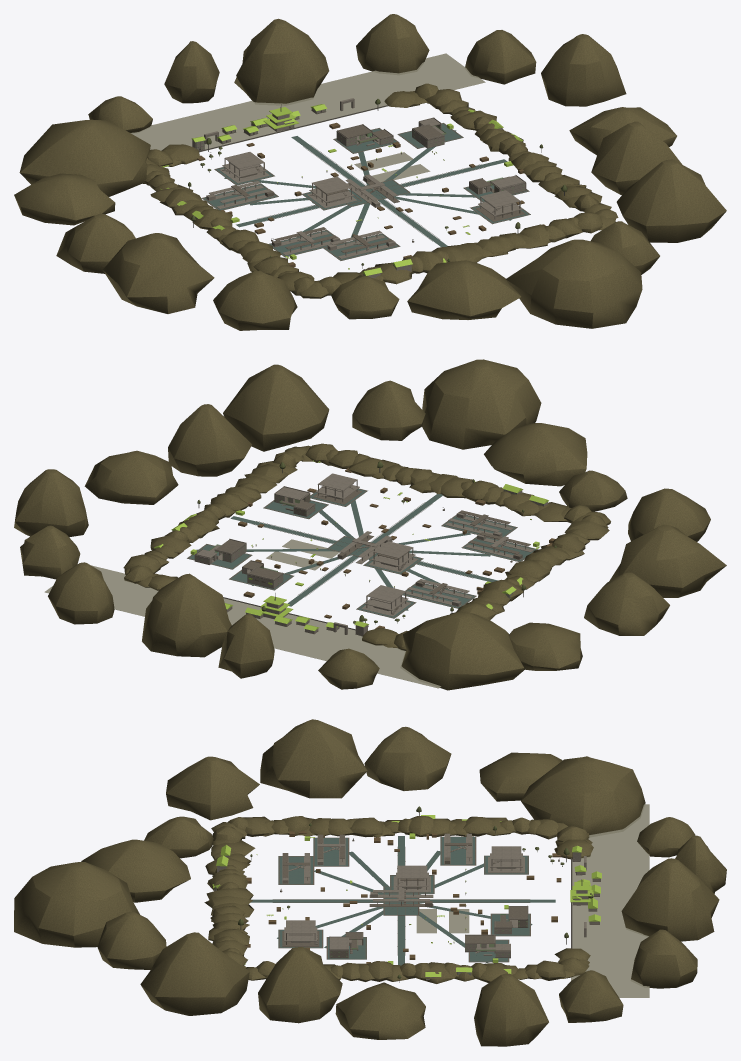
The model's file is tanada-lod1.glb.
The picture shows the model from 3 angles, top to bottom: view 1: azimuth 30°, elevation 25°; view 2: azimuth 150°, elevation 25°; view 3: azimuth 270°, elevation 25°; orthographic projection.
Parts seen in each view (by area): view 1: HB_tanada_LOD1_terrain, HB_tanada_LOD1_water, HB_tanada_LOD1_wall, HB_tanada_LOD1_road, HB_tanada_LOD1_wall_alt, HB_tanada_LOD1_accent, HB_tanada_LOD1_obstacle, HB_tanada_LOD1_trim; view 2: HB_tanada_LOD1_terrain, HB_tanada_LOD1_wall, HB_tanada_LOD1_water, HB_tanada_LOD1_road, HB_tanada_LOD1_wall_alt, HB_tanada_LOD1_accent, HB_tanada_LOD1_obstacle; view 3: HB_tanada_LOD1_terrain, HB_tanada_LOD1_water, HB_tanada_LOD1_road, HB_tanada_LOD1_wall, HB_tanada_LOD1_wall_alt, HB_tanada_LOD1_accent, HB_tanada_LOD1_obstacle.
Part boxes in pixels (bbox=[...]): HB_tanada_LOD1_terrain: bbox=[14, 14, 726, 330]; HB_tanada_LOD1_water: bbox=[130, 53, 485, 182]; HB_tanada_LOD1_wall: bbox=[192, 98, 525, 278]; HB_tanada_LOD1_road: bbox=[201, 123, 530, 260]; HB_tanada_LOD1_wall_alt: bbox=[199, 110, 530, 260]; HB_tanada_LOD1_accent: bbox=[160, 104, 522, 275]; HB_tanada_LOD1_obstacle: bbox=[197, 122, 545, 267]; HB_tanada_LOD1_trim: bbox=[189, 104, 564, 268]; HB_tanada_LOD1_terrain: bbox=[14, 359, 726, 690]; HB_tanada_LOD1_wall: bbox=[155, 473, 547, 635]; HB_tanada_LOD1_water: bbox=[44, 539, 441, 688]; HB_tanada_LOD1_road: bbox=[188, 489, 537, 618]; HB_tanada_LOD1_wall_alt: bbox=[187, 486, 537, 636]; HB_tanada_LOD1_accent: bbox=[154, 460, 548, 631]; HB_tanada_LOD1_obstacle: bbox=[177, 468, 555, 628]; HB_tanada_LOD1_terrain: bbox=[14, 719, 726, 1046]; HB_tanada_LOD1_water: bbox=[416, 804, 649, 997]; HB_tanada_LOD1_road: bbox=[251, 836, 555, 965]; HB_tanada_LOD1_wall: bbox=[214, 833, 600, 979]; HB_tanada_LOD1_wall_alt: bbox=[213, 834, 600, 980]; HB_tanada_LOD1_accent: bbox=[212, 815, 601, 977]; HB_tanada_LOD1_obstacle: bbox=[245, 831, 561, 963].
Bounding box in the file's own units: 633 × 63.69 × 652.
Materials: 10 (8 with a texture image).
